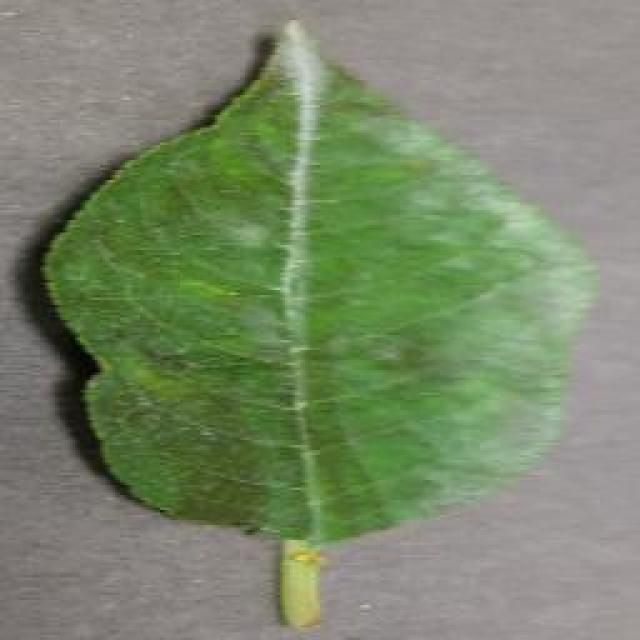Cherry___Powdery_mildew: (30, 5, 602, 637)
